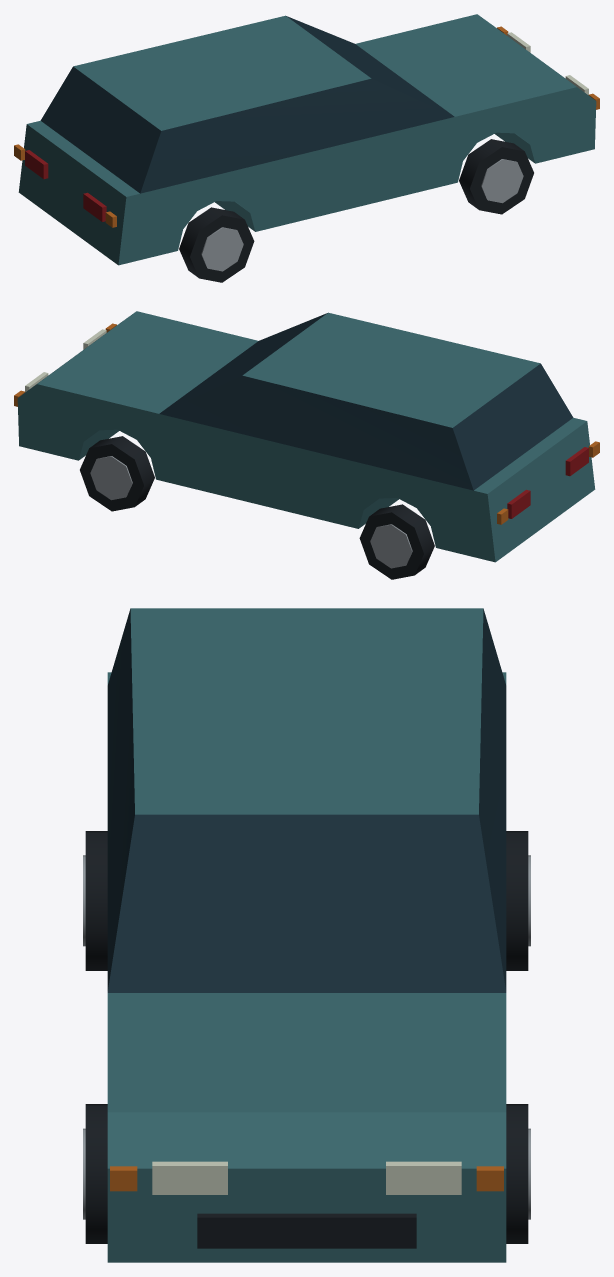
Rendered from estate-far.glb.
3 renders of one model, top to bottom at view 1: azimuth 30°, elevation 25°; view 2: azimuth 150°, elevation 25°; view 3: azimuth 270°, elevation 25°, orthographic. The views are drawn at different scales.
Visible parts, largest first — view 1: distant_surface; view 2: distant_surface; view 3: distant_surface.
Part boxes in pixels (x1,y1,x2,y2): distant_surface: [14, 14, 599, 282]; distant_surface: [14, 311, 599, 579]; distant_surface: [83, 608, 530, 1262].
Size of the model in its own units: 4.91 by 1.5 by 1.95.
